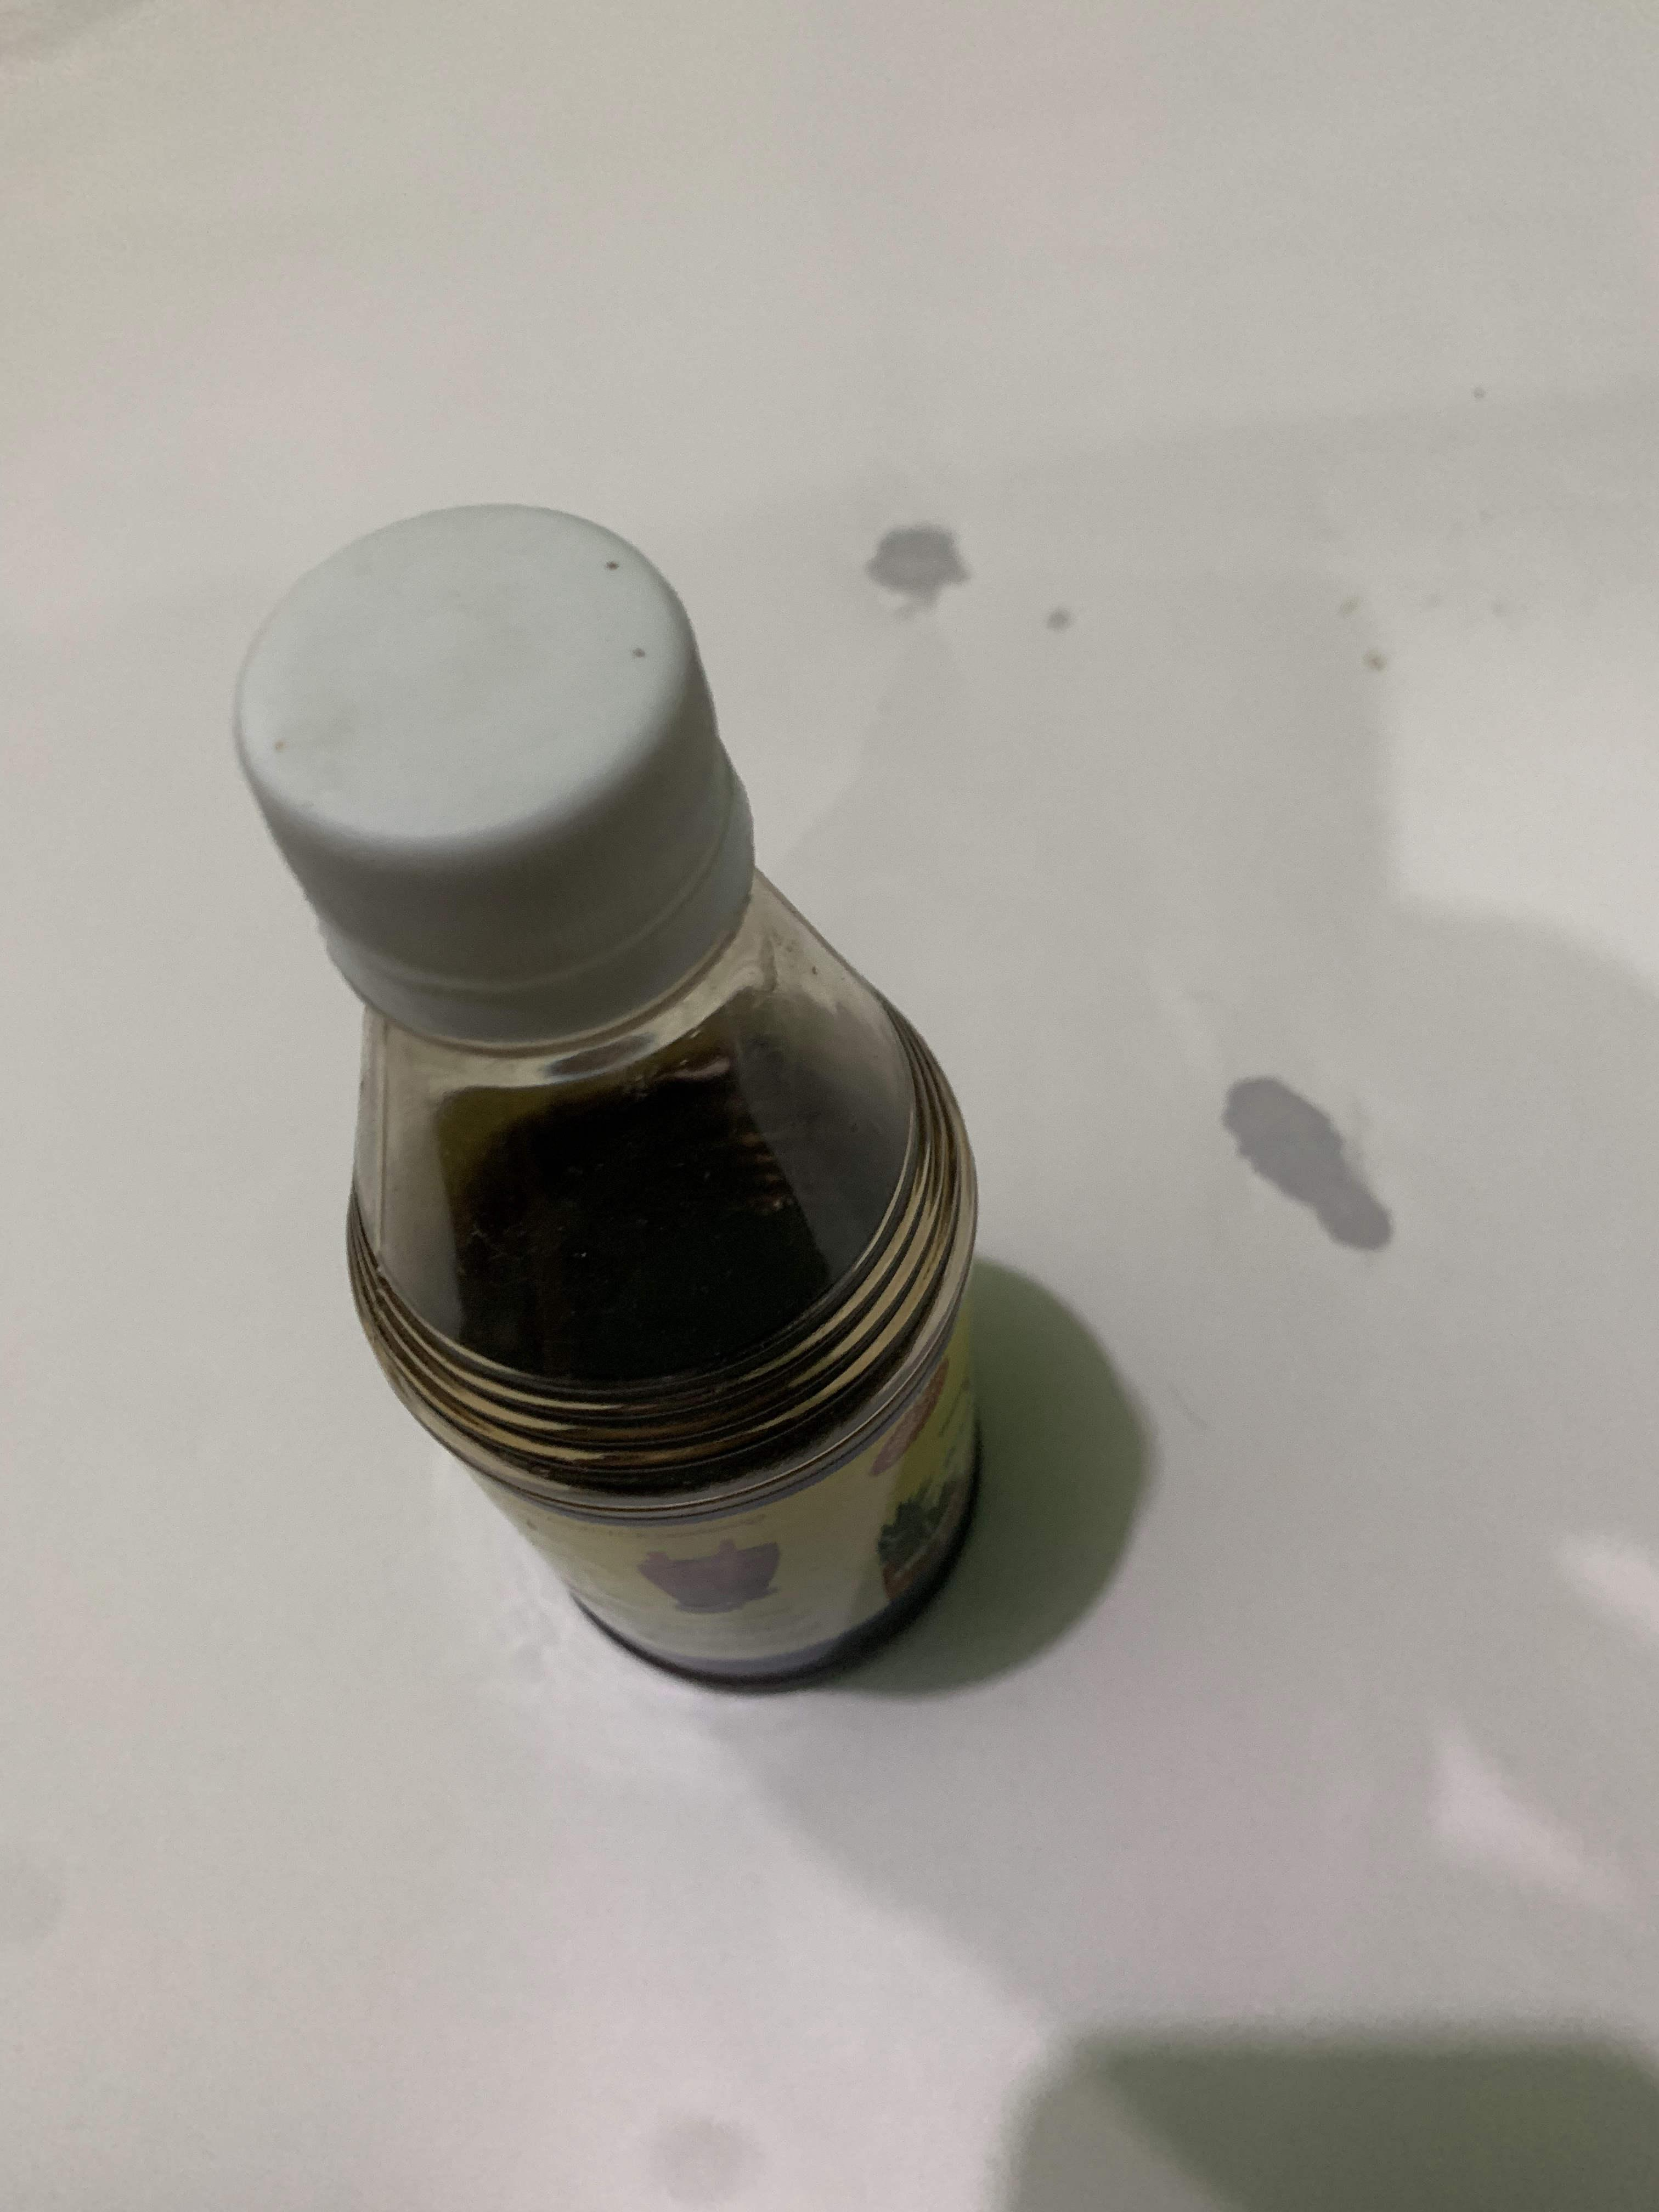bottle: (225, 1045, 999, 1136)
